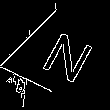N_NE: (36, 18, 98, 81)
